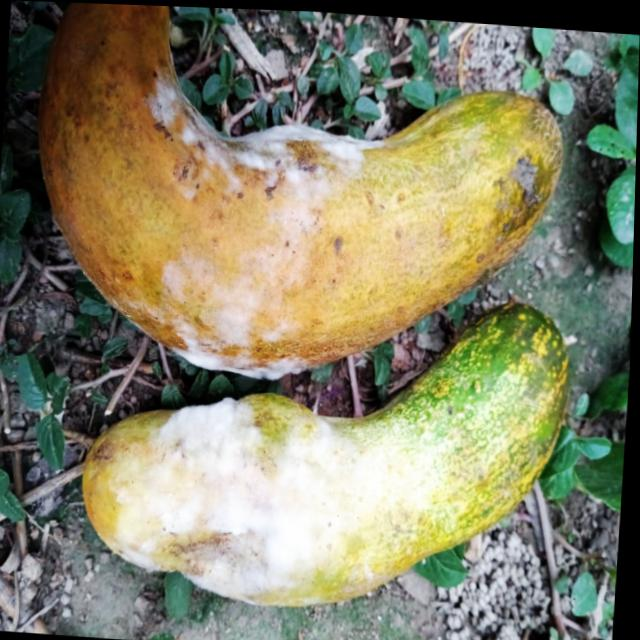Pythium-Fruit-Rot: (133, 53, 389, 387), (121, 377, 360, 610)
